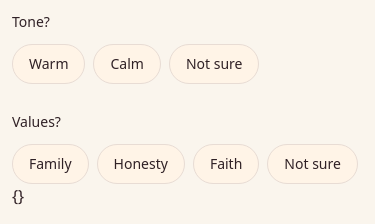
Test: Questionnaire › single choice toggles and offers Not sure
This screenshot has width=375, height=224.
Click the radio button labelled "Warm" at (49, 64), box [12, 44, 86, 84]
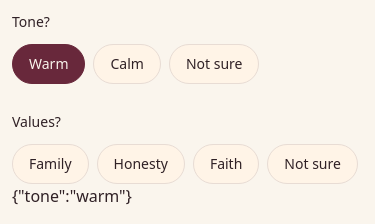
expect the text with test id "o" shows "\"tone\":\"warm\"": met, box [12, 185, 132, 207]
Click the radio button labelled "Not sure" at (214, 64), box [169, 44, 260, 84]
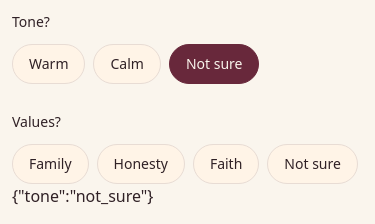
expect the text with test id "o" shows "\"tone\":\"not_sure\"": met, box [12, 185, 154, 207]
Click the radio button labelled "Not sure" at (214, 64), box [169, 44, 260, 84]
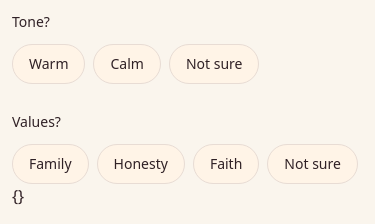
expect the text with test id "o" reads "{}": met, box [12, 185, 24, 207]
